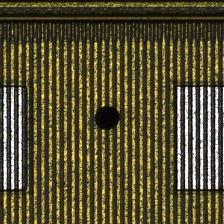PARTICLE: (94, 105, 122, 133)
